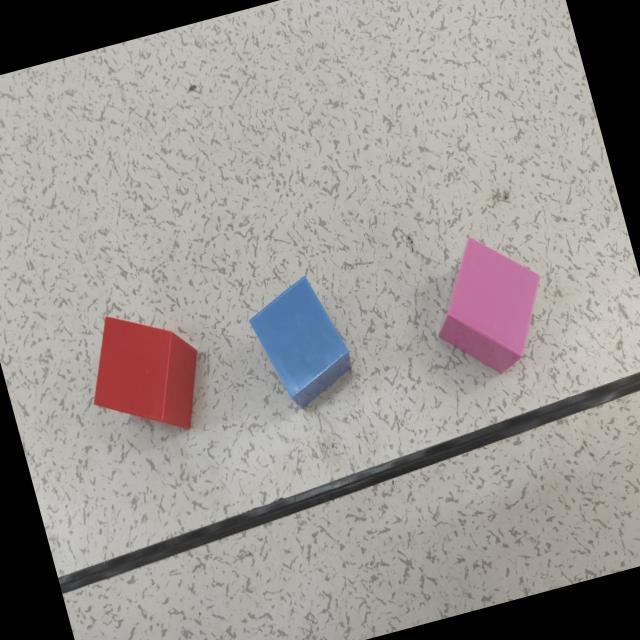blue: (249, 277, 353, 409)
pink: (437, 238, 542, 374)
red: (92, 318, 199, 430)
